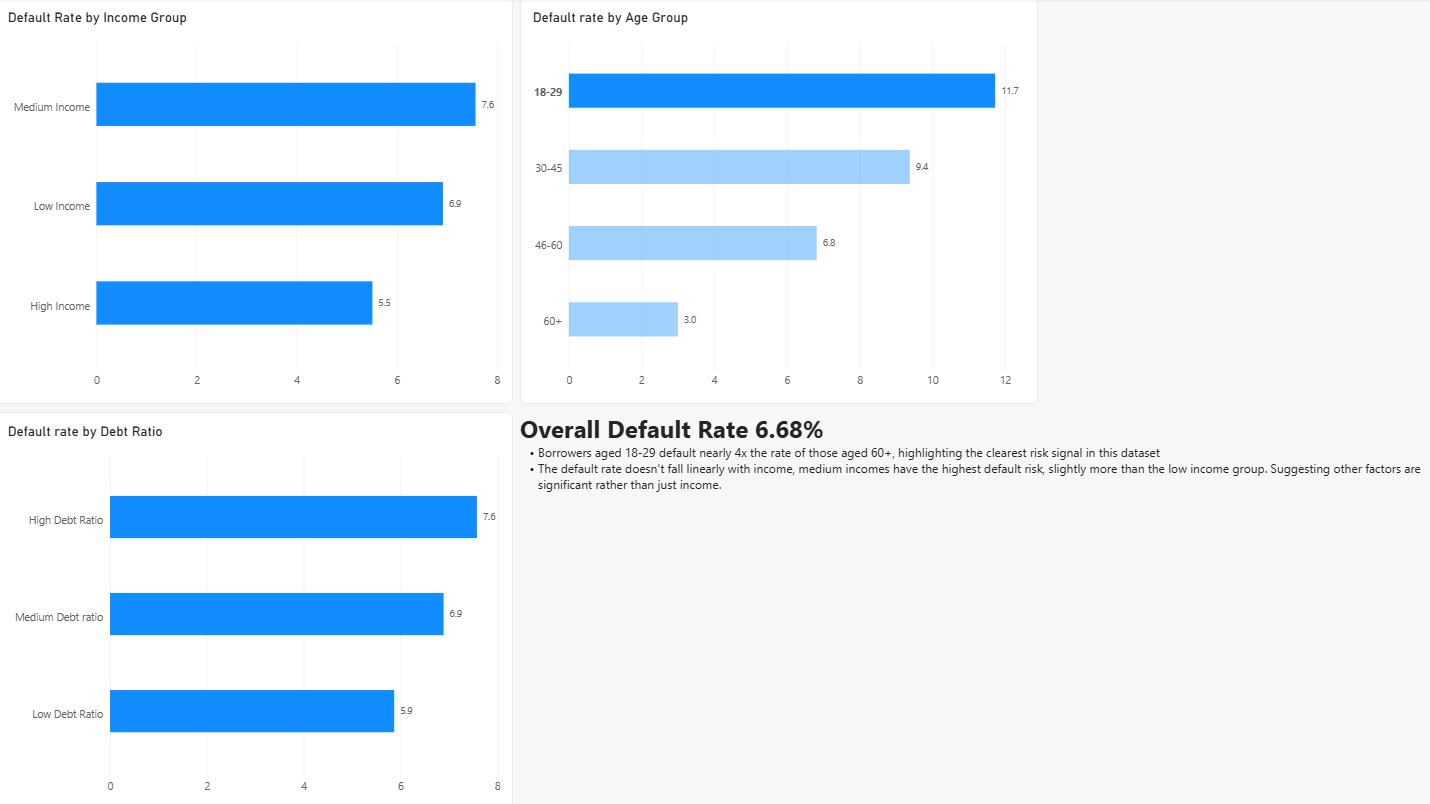

What the dashboard file says about the page in this screenshot:
{"tool":"powerbi","page":{"name":"Page 1","canvas":[1920,1080],"ordinal":0},"visuals":[{"type":"clusteredBarChart","title":"Default Rate by Income Group","fields":{"Category":["income_group.income_group"],"Y":["Sum(income_group.default_rate_pct)"]},"box":[10.2,0,688.6,539.8],"z":0},{"type":"clusteredBarChart","title":"Default rate by Debt Ratio","fields":{"Category":["debt_group.debt_group"],"Y":["Sum(debt_group.default_rate_pct)"]},"box":[10,550,689,530],"z":1},{"type":"clusteredBarChart","title":"Default rate by Age Group","fields":{"Category":["age_group.age_group"],"Y":["Sum(age_group.default_rate_pct)"]},"box":[709,0,689,540],"z":2},{"type":"textbox","box":[709.1,550,1210.9,529.6],"z":3}]}

Visuals, with their boxes in screenshot pixels (x1, y1, x2, y2), scaled from the page's 1920x1080 canvas onto the 1430x804 screenshot:
"Default Rate by Income Group" clusteredBarChart: <bbox>8, 0, 520, 402</bbox>
"Default rate by Debt Ratio" clusteredBarChart: <bbox>7, 409, 521, 803</bbox>
"Default rate by Age Group" clusteredBarChart: <bbox>528, 0, 1041, 402</bbox>
textbox: <bbox>528, 409, 1429, 803</bbox>
